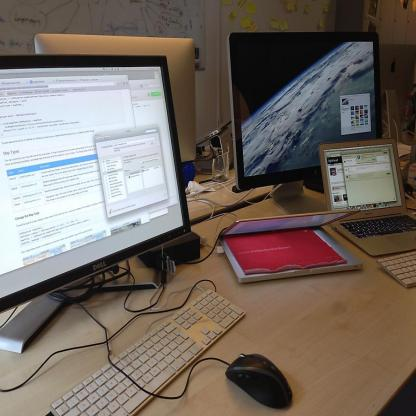board: (318, 136, 416, 258), (218, 208, 363, 283), (195, 119, 231, 146)
